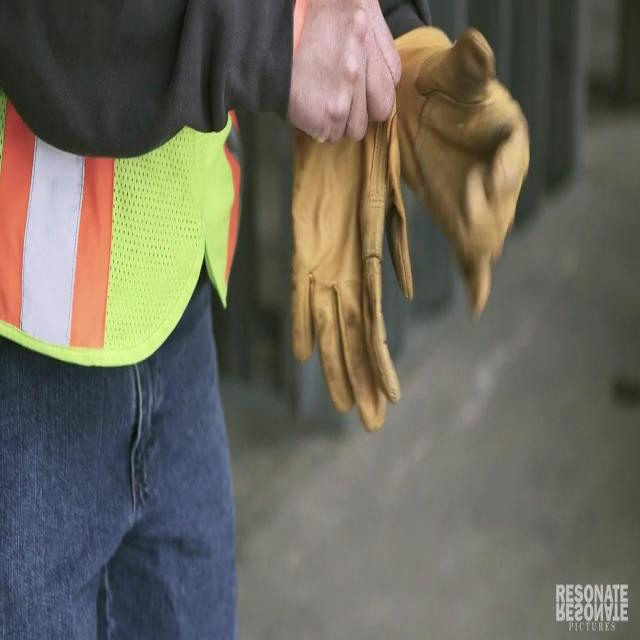vest: (2, 89, 244, 368)
